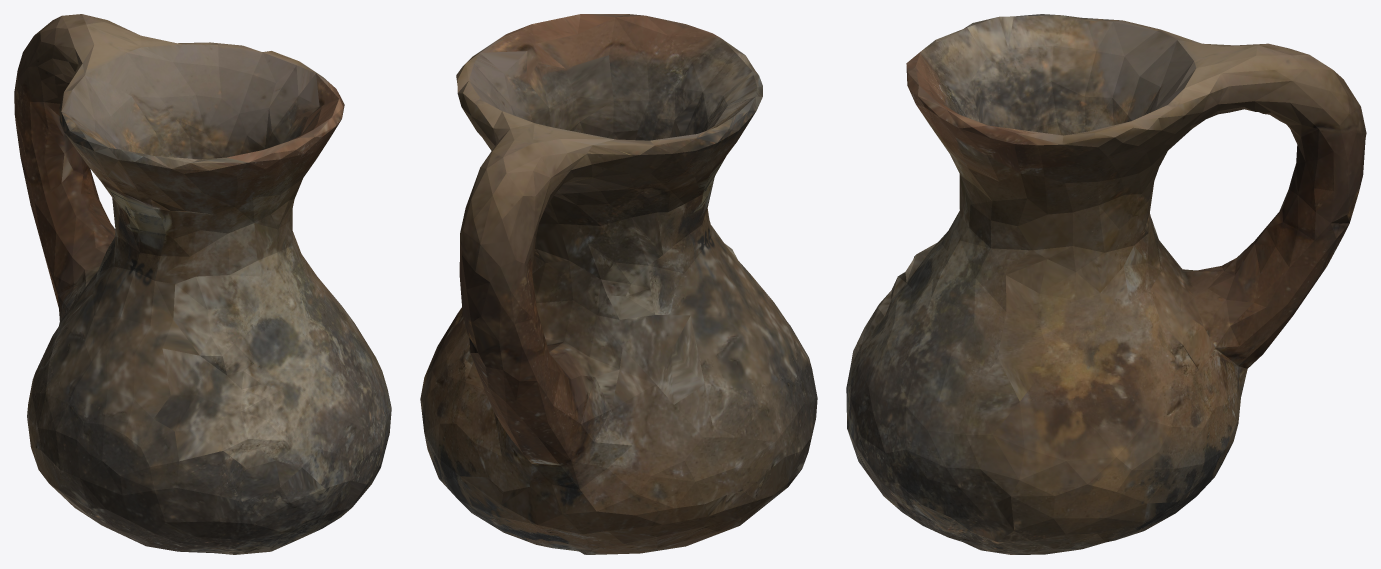
Rendered from KLA-Or-766.fbx.
3 renders of one model, left to right at view 1: azimuth 30°, elevation 25°; view 2: azimuth 150°, elevation 25°; view 3: azimuth 270°, elevation 25°, orthographic. The views are drawn at different scales.
Visible parts, largest first — view 1: KLA-Or-766; view 2: KLA-Or-766; view 3: KLA-Or-766.
Part boxes in pixels (x1=…): KLA-Or-766: x1=14, y1=14, x2=391, y2=554; KLA-Or-766: x1=420, y1=14, x2=817, y2=554; KLA-Or-766: x1=846, y1=14, x2=1366, y2=554.
Size of the model in its own units: 347 by 440 by 456.
